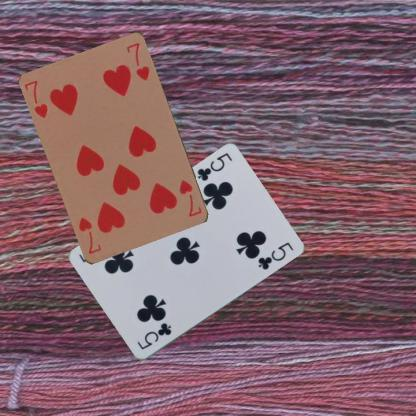5c: (194, 150, 234, 183), (134, 320, 173, 351)
7h: (22, 78, 50, 119), (177, 177, 203, 218)
